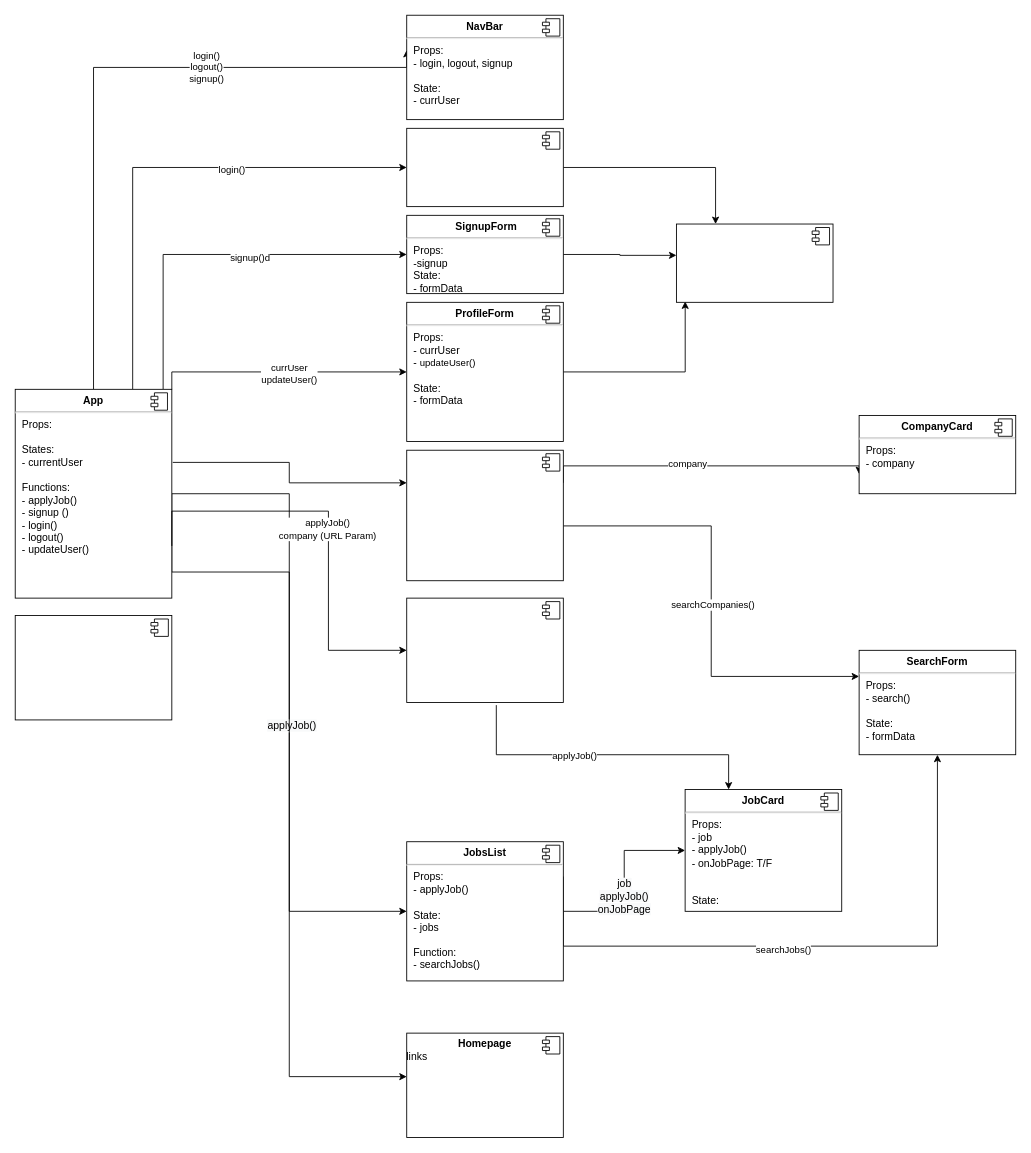
Image size: 1031x1153. Some labels were removed from this diagram. The box of each missing label's shape, as (x1, y1, x2, y2) in pixels:
Alert validation msgs: (676, 223, 833, 302)
CompanyDetail Params: - Company Props: - applyJob(): (406, 597, 563, 703)
CompanyList Props: State: - companies Function: - searchCompanies(): (406, 449, 563, 581)
LoginForm Props: -login State: - formData: (406, 127, 563, 207)
Routes Props: State: Function:: (14, 615, 172, 720)
